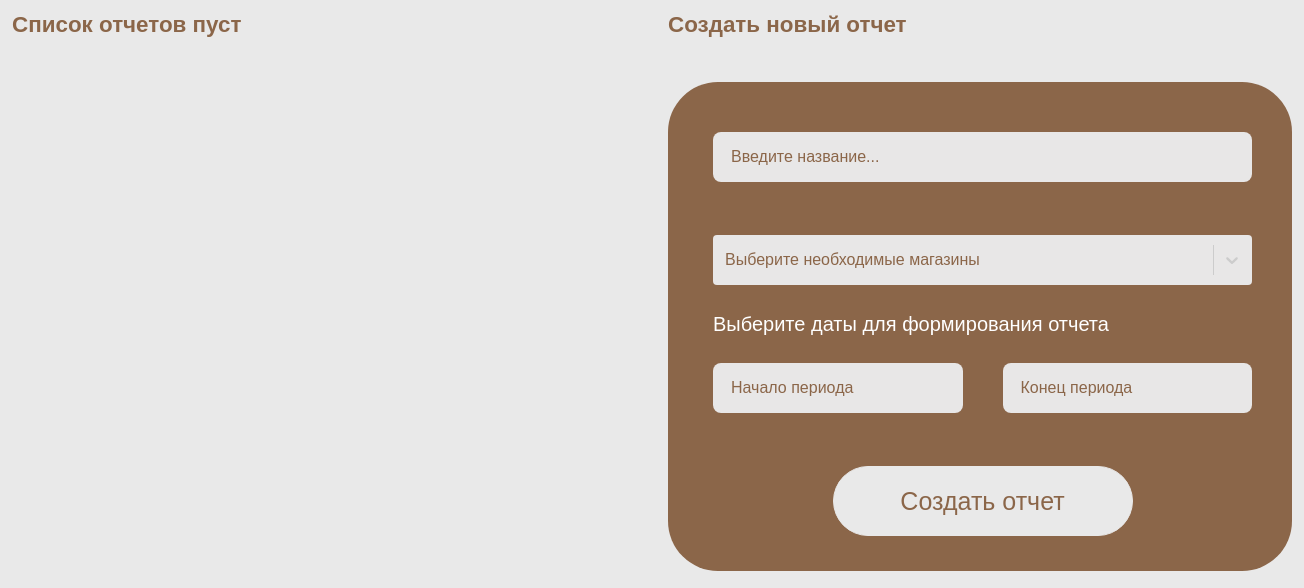
Test: Reports form boundary validation › показывает ошибку, когда дата окончания раньше даты начала
In the field with placeholder "Введите название...": (982, 157) top-left (713, 132), bottom-right (1252, 182), type "Тестовый отчёт"
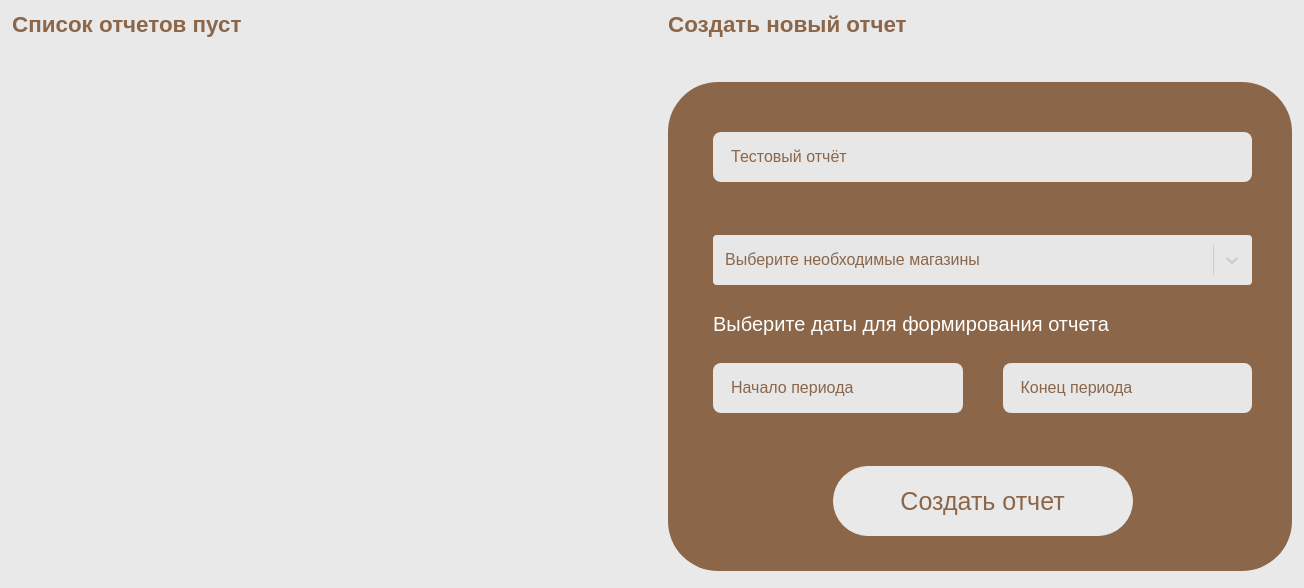
Press the mouse on the element with class "custom-select__control": (982, 260) top-left (713, 235), bottom-right (1252, 285)
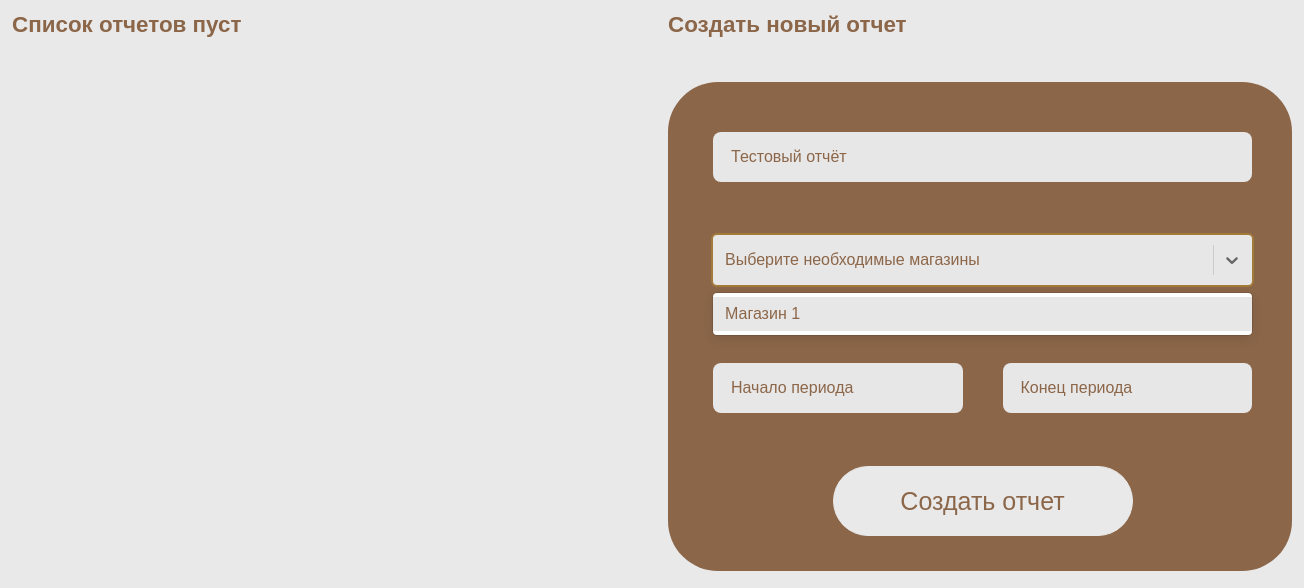
Check: the option "Магазин 1" is shown
Click the option "Магазин 1": click(763, 314) top-left (713, 297), bottom-right (1252, 331)
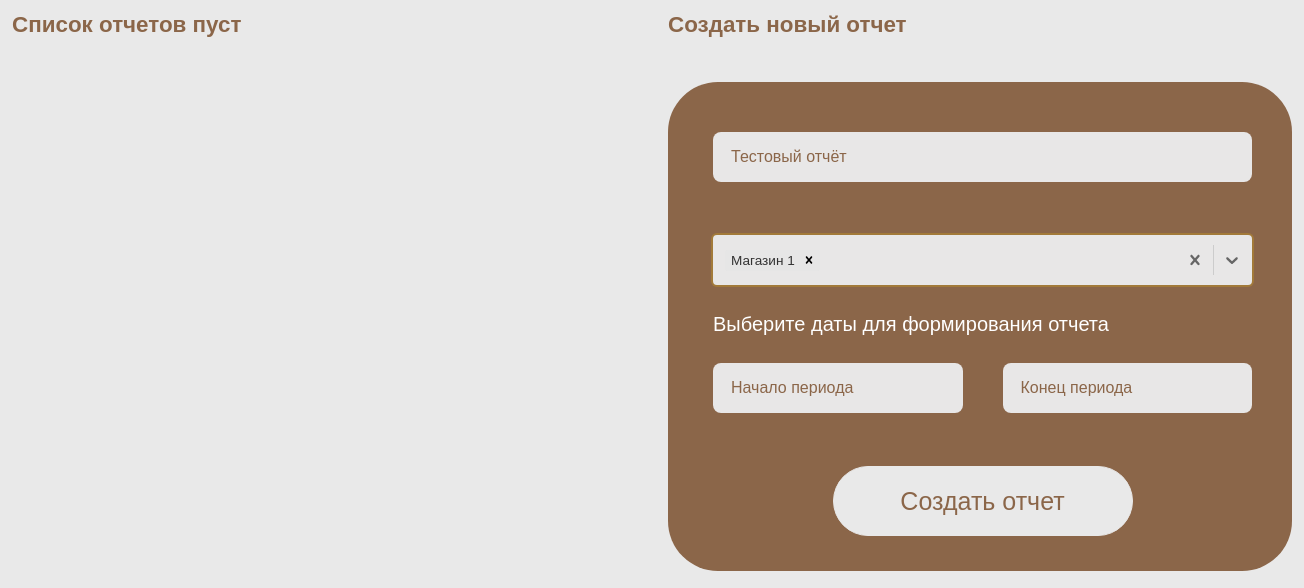
In the field with placeholder "Начало периода": (838, 388) top-left (713, 363), bottom-right (962, 413), type "2026-05-10"
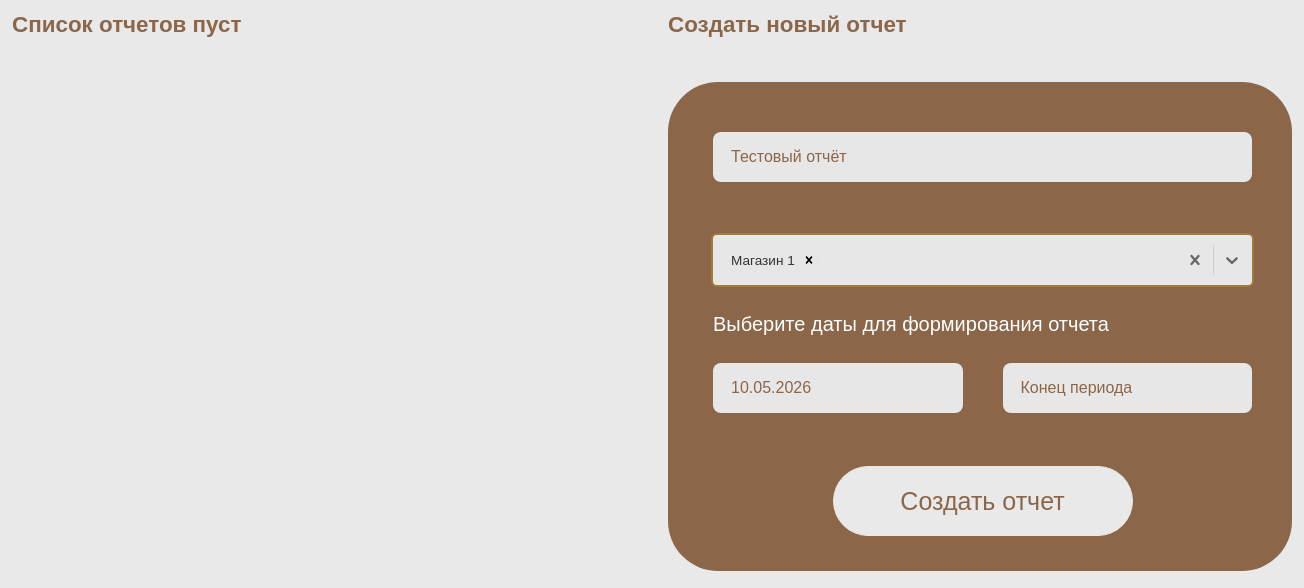
In the field with placeholder "Конец периода": (1127, 388) top-left (1002, 363), bottom-right (1252, 413), type "2026-05-01"
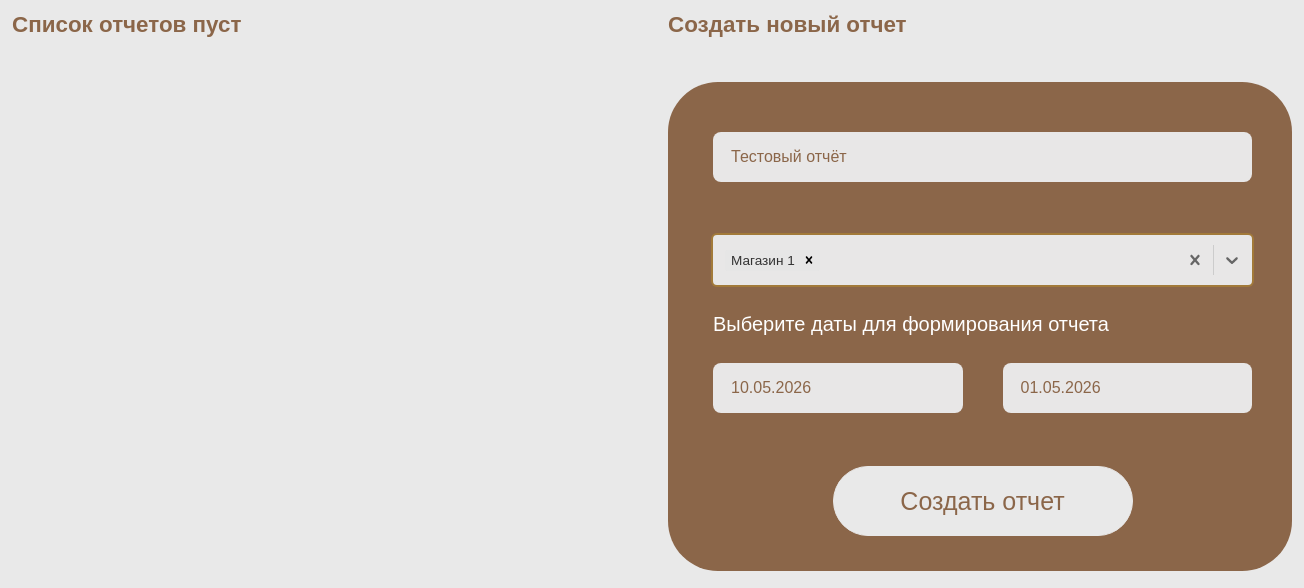
Click the button "Создать отчет": click(982, 501) top-left (832, 466), bottom-right (1132, 536)
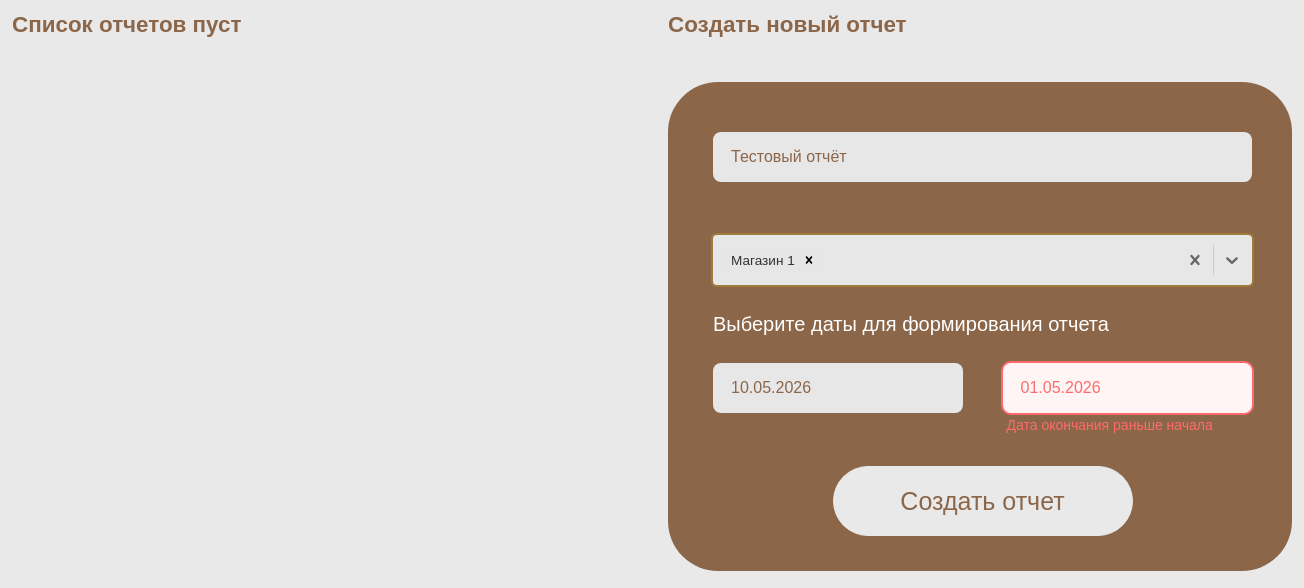
Check: the text "Дата окончания раньше начала" is shown, box top-left (1006, 417), bottom-right (1213, 433)
